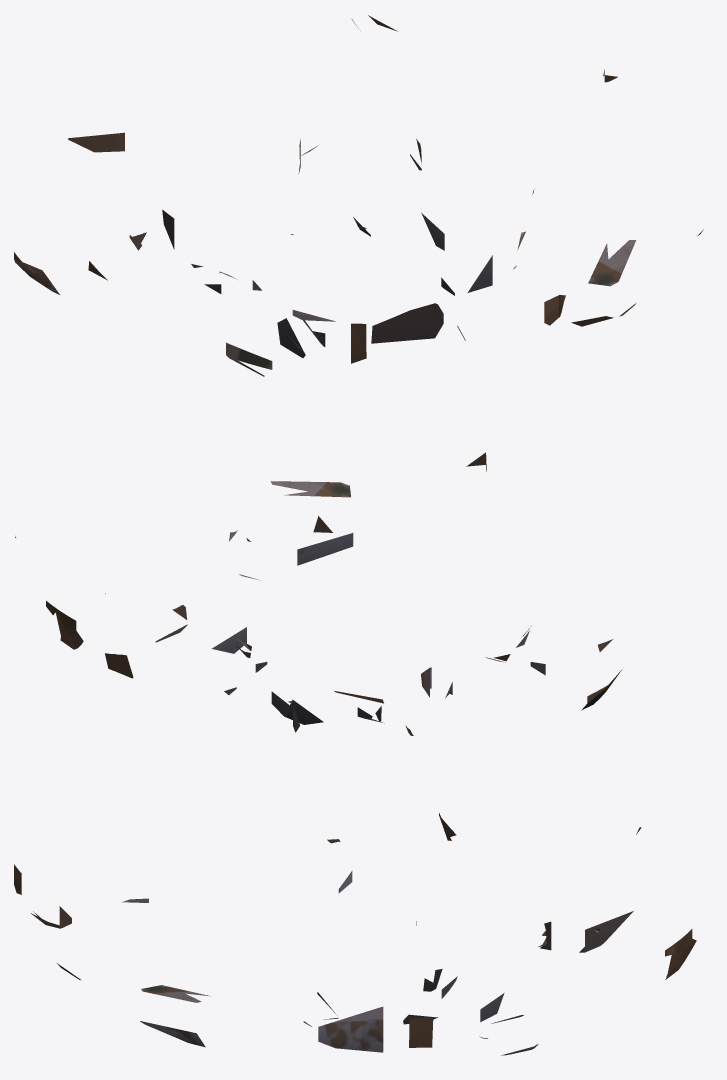
3 renders of one model, top to bottom at view 1: azimuth 30°, elevation 25°; view 2: azimuth 150°, elevation 25°; view 3: azimuth 270°, elevation 25°, orthographic. The views are drawn at different scales.
Visible parts, largest first — view 1: Dirt_-1_-3_-1_110_011, Dirt_-3_3_-1_111_100, Columns_-4_-4_-1_011, Columns_2_-3_-1_000_011, Dirt_-3_-5_0_011; view 2: Columns_1_-3_-1_111, Dirt_2_4_0, Columns_0_1_-2_010, Columns_2_-3_-1_000_011; view 3: Columns_2_-1_-1_011, Dirt_-1_3_-1_001, Dirt_4_0_0_110, Dirt_2_4_0, Columns_2_-3_-1_001.
Part boxes in pixels (x1,y1,x2,y2): Dirt_-1_-3_-1_110_011: (371,303,443,343); Dirt_-3_3_-1_111_100: (68,132,124,152); Columns_-4_-4_-1_011: (226,342,272,376); Columns_2_-3_-1_000_011: (608,240,636,286); Dirt_-3_-5_0_011: (351,323,366,363); Columns_1_-3_-1_111: (297,533,353,565); Dirt_2_4_0: (46,601,83,649); Columns_0_1_-2_010: (271,691,323,724); Columns_2_-3_-1_000_011: (270,481,349,491); Columns_2_-1_-1_011: (318,1006,383,1052); Dirt_-1_3_-1_001: (585,911,633,952); Dirt_4_0_0_110: (409,1017,433,1047); Dirt_2_4_0: (665,929,696,979); Columns_2_-3_-1_001: (140,1021,205,1047).
Size of the model in its own units: 604 by 172 by 601.
Materials: 64 (64 with a texture image).
